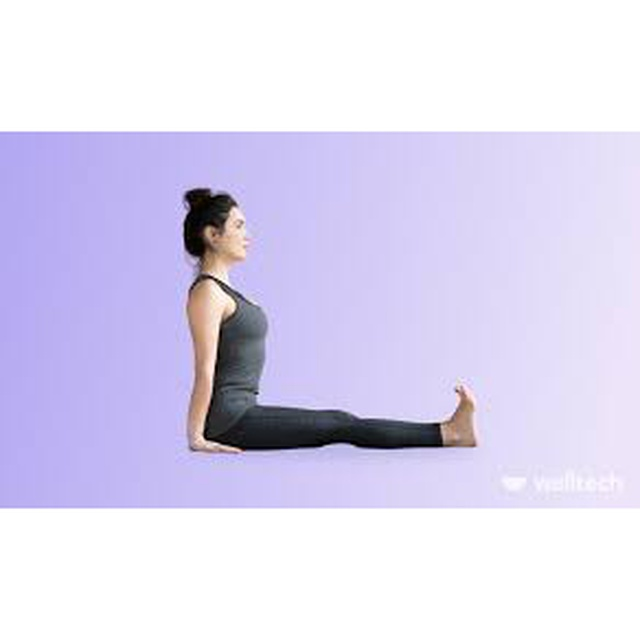Staff_Pose: (181, 187, 479, 456)
